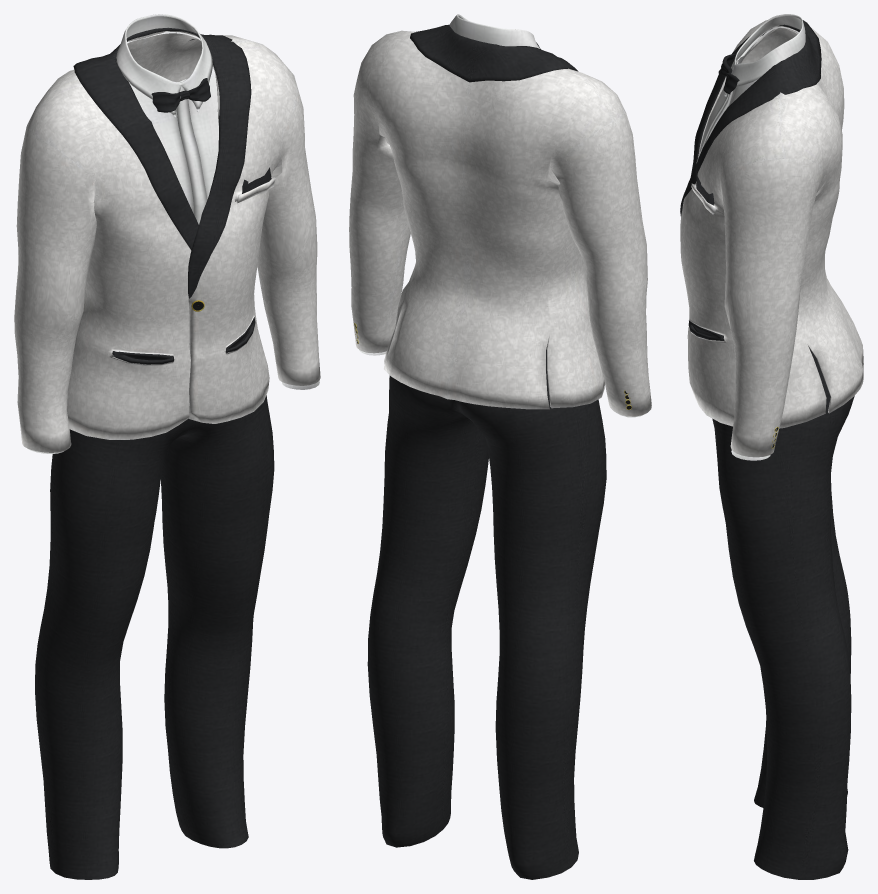
The model's file is full_dinner_suit.gltf.
3 renders of one model, left to right at view 1: azimuth 30°, elevation 25°; view 2: azimuth 150°, elevation 25°; view 3: azimuth 270°, elevation 25°, orthographic. The views are drawn at different scales.
Parts seen in each view (by area): view 1: full_dinner_suit; view 2: full_dinner_suit; view 3: full_dinner_suit.
Part boxes in pixels (x1=…): full_dinner_suit: x1=14, y1=14, x2=320, y2=879; full_dinner_suit: x1=349, y1=14, x2=651, y2=879; full_dinner_suit: x1=680, y1=14, x2=863, y2=879.
Size of the model in its own units: 0.5394 by 1.47 by 0.2996.
Materials: 1 (1 with a texture image).
